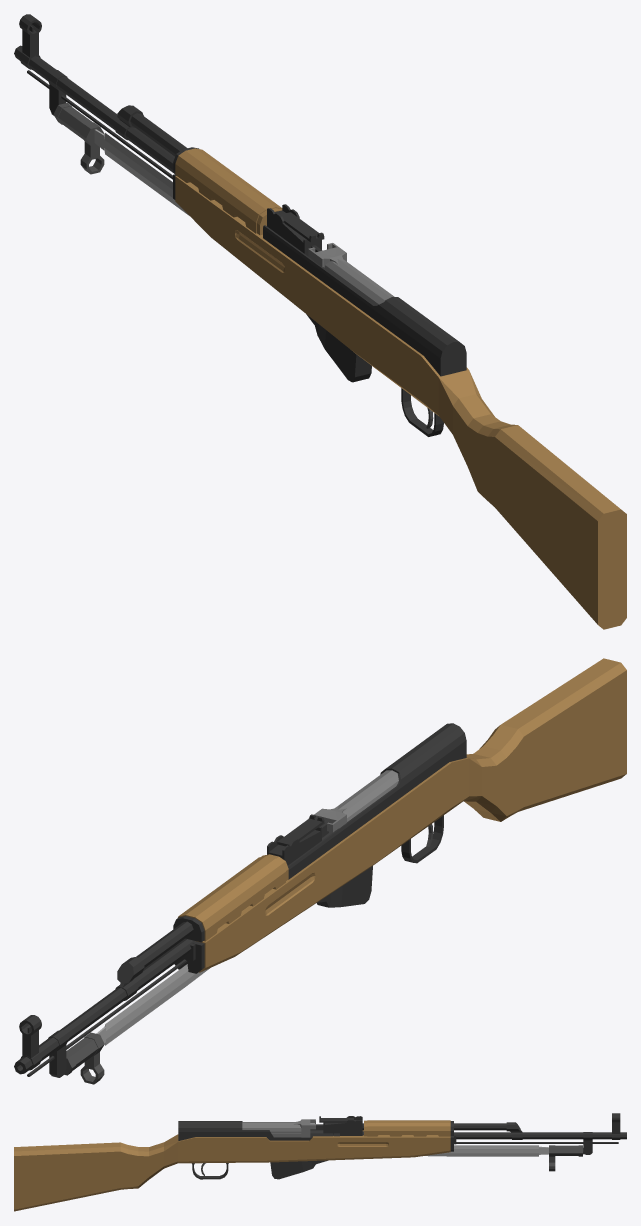
The model's file is SKS.fbx.
3 views of the same model, one above another, from view 1: azimuth 30°, elevation 25°; view 2: azimuth 150°, elevation 25°; view 3: azimuth 270°, elevation 25° (orthographic). The views are drawn at different scales.
Parts seen in each view (by area): view 1: SKS, Knife, Bolt; view 2: SKS, Knife, Bolt; view 3: SKS, Knife, Bolt.
Part boxes in pixels (x1,y1,x2,y2): SKS: (14, 14, 626, 629); Knife: (53, 103, 189, 215); Bolt: (308, 243, 394, 305); SKS: (14, 658, 626, 1077); Knife: (64, 964, 209, 1084); Bolt: (308, 770, 398, 833); SKS: (14, 1113, 626, 1211); Knife: (425, 1145, 584, 1171); Bolt: (242, 1119, 315, 1137).
Bounding box in the file's own units: 16.76 × 97.16 × 565.
Materials: 1 (1 with a texture image).
